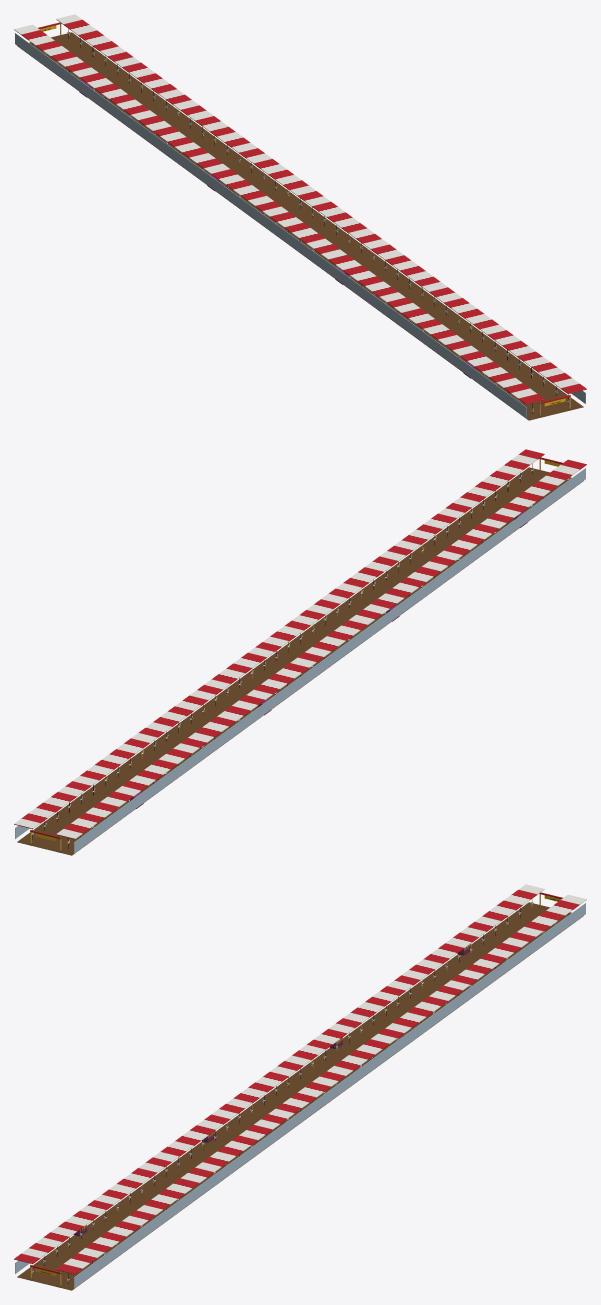
The model's file is carrusel_bushnell.glb.
3 renders of one model, top to bottom at view 1: azimuth 30°, elevation 25°; view 2: azimuth 150°, elevation 25°; view 3: azimuth 330°, elevation 25°, orthographic.
Parts seen in each view (by area): view 1: carrusel_bushnell; view 2: carrusel_bushnell; view 3: carrusel_bushnell.
Part boxes in pixels (box(x1,y1,x2,y2)): carrusel_bushnell: box(14, 14, 586, 420); carrusel_bushnell: box(14, 449, 586, 855); carrusel_bushnell: box(14, 884, 586, 1290).
Size of the model in its own units: 29 by 8 by 420.
Materials: 1 (1 with a texture image).
